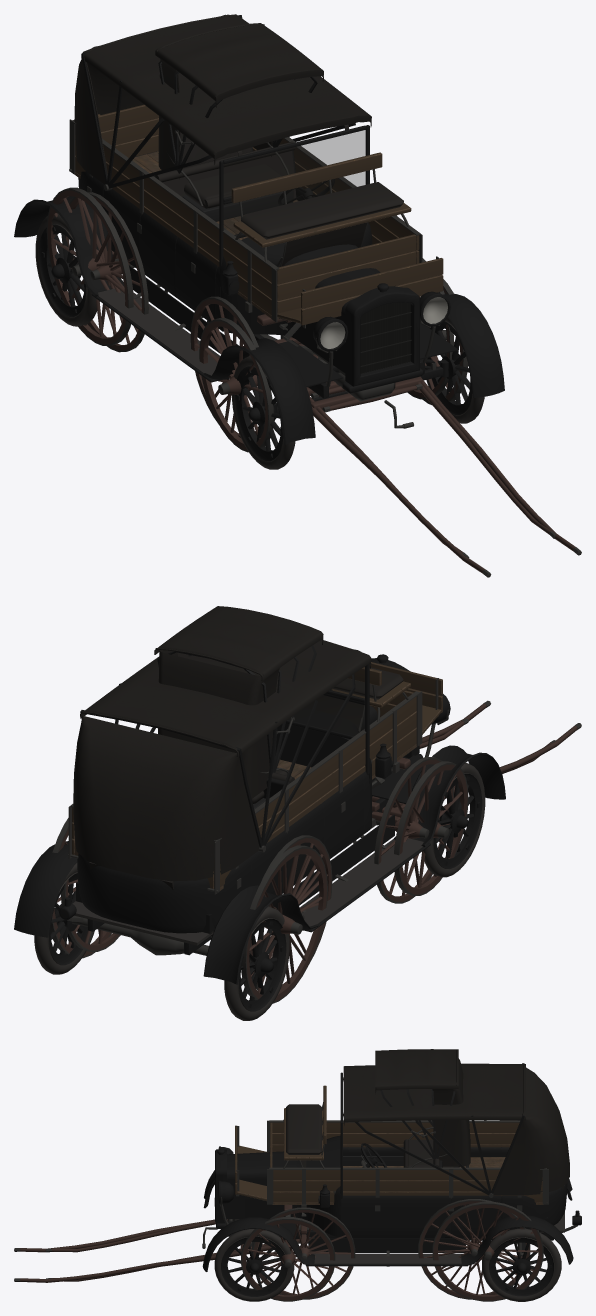
Rendered from vehicles.glb.
3 renders of one model, top to bottom at view 1: azimuth 30°, elevation 25°; view 2: azimuth 150°, elevation 25°; view 3: azimuth 270°, elevation 25°, orthographic. The views are drawn at different scales.
Parts seen in each view (by area): view 1: model-t, delivery-wagon, buggy; view 2: model-t, delivery-wagon, buggy; view 3: model-t, delivery-wagon, buggy.
Part boxes in pixels (box(x1,y1,x2,y2)): model-t: box(14, 14, 504, 469); delivery-wagon: box(46, 104, 581, 577); buggy: box(65, 23, 555, 557); model-t: box(14, 640, 505, 1020); delivery-wagon: box(50, 662, 581, 1003); buggy: box(61, 606, 556, 989); model-t: box(202, 1063, 581, 1301); delivery-wagon: box(14, 1085, 548, 1301); buggy: box(45, 1049, 530, 1299).
Size of the model in its own units: 1.71 by 2.17 by 5.4.
11 materials, 2 textured.
